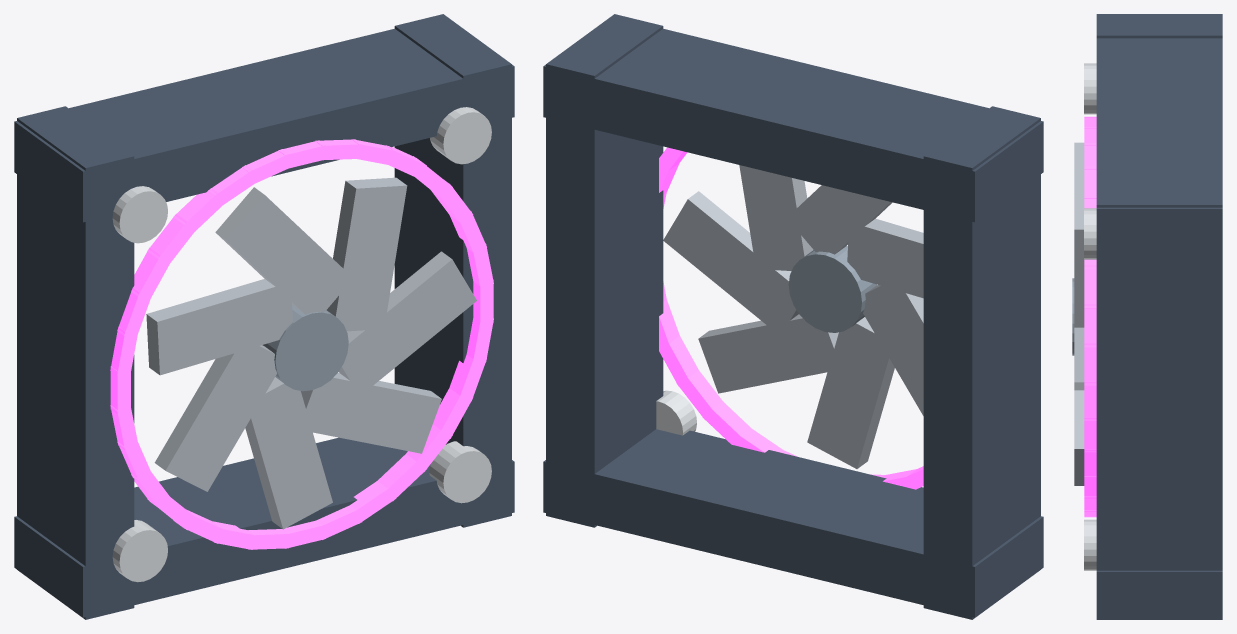
Rendered from fan-rear.glb.
3 renders of one model, left to right at view 1: azimuth 30°, elevation 25°; view 2: azimuth 150°, elevation 25°; view 3: azimuth 270°, elevation 25°, orthographic. The views are drawn at different scales.
Visible parts, largest first — view 1: fan_rail_4, fan_rail_1, fan_rail_3, fan_rail_2, fan_blade_44, fan_blade_45, fan_blade_42, fan_blade_46, fan_blade_41, fan_blade_43, fan_blade_47, rotor_hub_48 (+32 smaller); view 2: fan_rail_4, fan_rail_1, fan_rail_3, fan_rail_2, fan_blade_46, fan_blade_41, fan_blade_47, fan_blade_42, rotor_hub_48, fan_blade_45, fan_blade_44, fan_blade_43 (+4 smaller); view 3: fan_rail_2, fan_rail_4, fan_rail_3, fan_rail_1, fan_blade_42, fan_blade_47, fan_blade_41, mount_screw_8, mount_screw_7, mount_screw_6, fan_blade_43, argb_ring_12 (+10 smaller).
Boxes of the visible parts, x1,y1,x2,y2 form: fan_rail_4: (14,28,514,222); fan_rail_1: (17,106,134,619); fan_rail_3: (14,437,514,617); fan_rail_2: (394,14,511,527); fan_blade_44: (146,279,292,375); fan_blade_45: (154,338,276,491); fan_blade_42: (327,177,407,331); fan_blade_46: (245,377,332,529); fan_blade_41: (338,251,476,385); fan_blade_43: (215,187,353,314); fan_blade_47: (298,373,441,453); rotor_hub_48: (262,305,348,391); fan_rail_4: (543,28,1043,222); fan_rail_1: (923,106,1040,619); fan_rail_3: (543,429,1043,617); fan_rail_2: (546,14,663,527); fan_blade_46: (807,317,894,468); fan_blade_41: (663,191,798,335); fan_blade_47: (698,314,841,393); fan_blade_42: (739,165,813,270); rotor_hub_48: (788,246,876,332); fan_blade_45: (863,278,923,415); fan_blade_44: (847,218,923,298); fan_blade_43: (787,185,892,254); fan_rail_2: (1096,183,1222,619); fan_rail_4: (1096,38,1222,255); fan_rail_3: (1096,570,1222,618); fan_rail_1: (1096,14,1222,38); fan_blade_42: (1074,198,1084,327); fan_blade_47: (1074,390,1084,485); fan_blade_41: (1074,327,1084,390); mount_screw_8: (1084,208,1096,259); mount_screw_7: (1084,519,1096,570); mount_screw_6: (1084,63,1096,114); fan_blade_43: (1074,142,1084,198); argb_ring_12: (1084,265,1096,308).
Size of the model in its own units: 0.8 by 0.8 by 0.2629.
